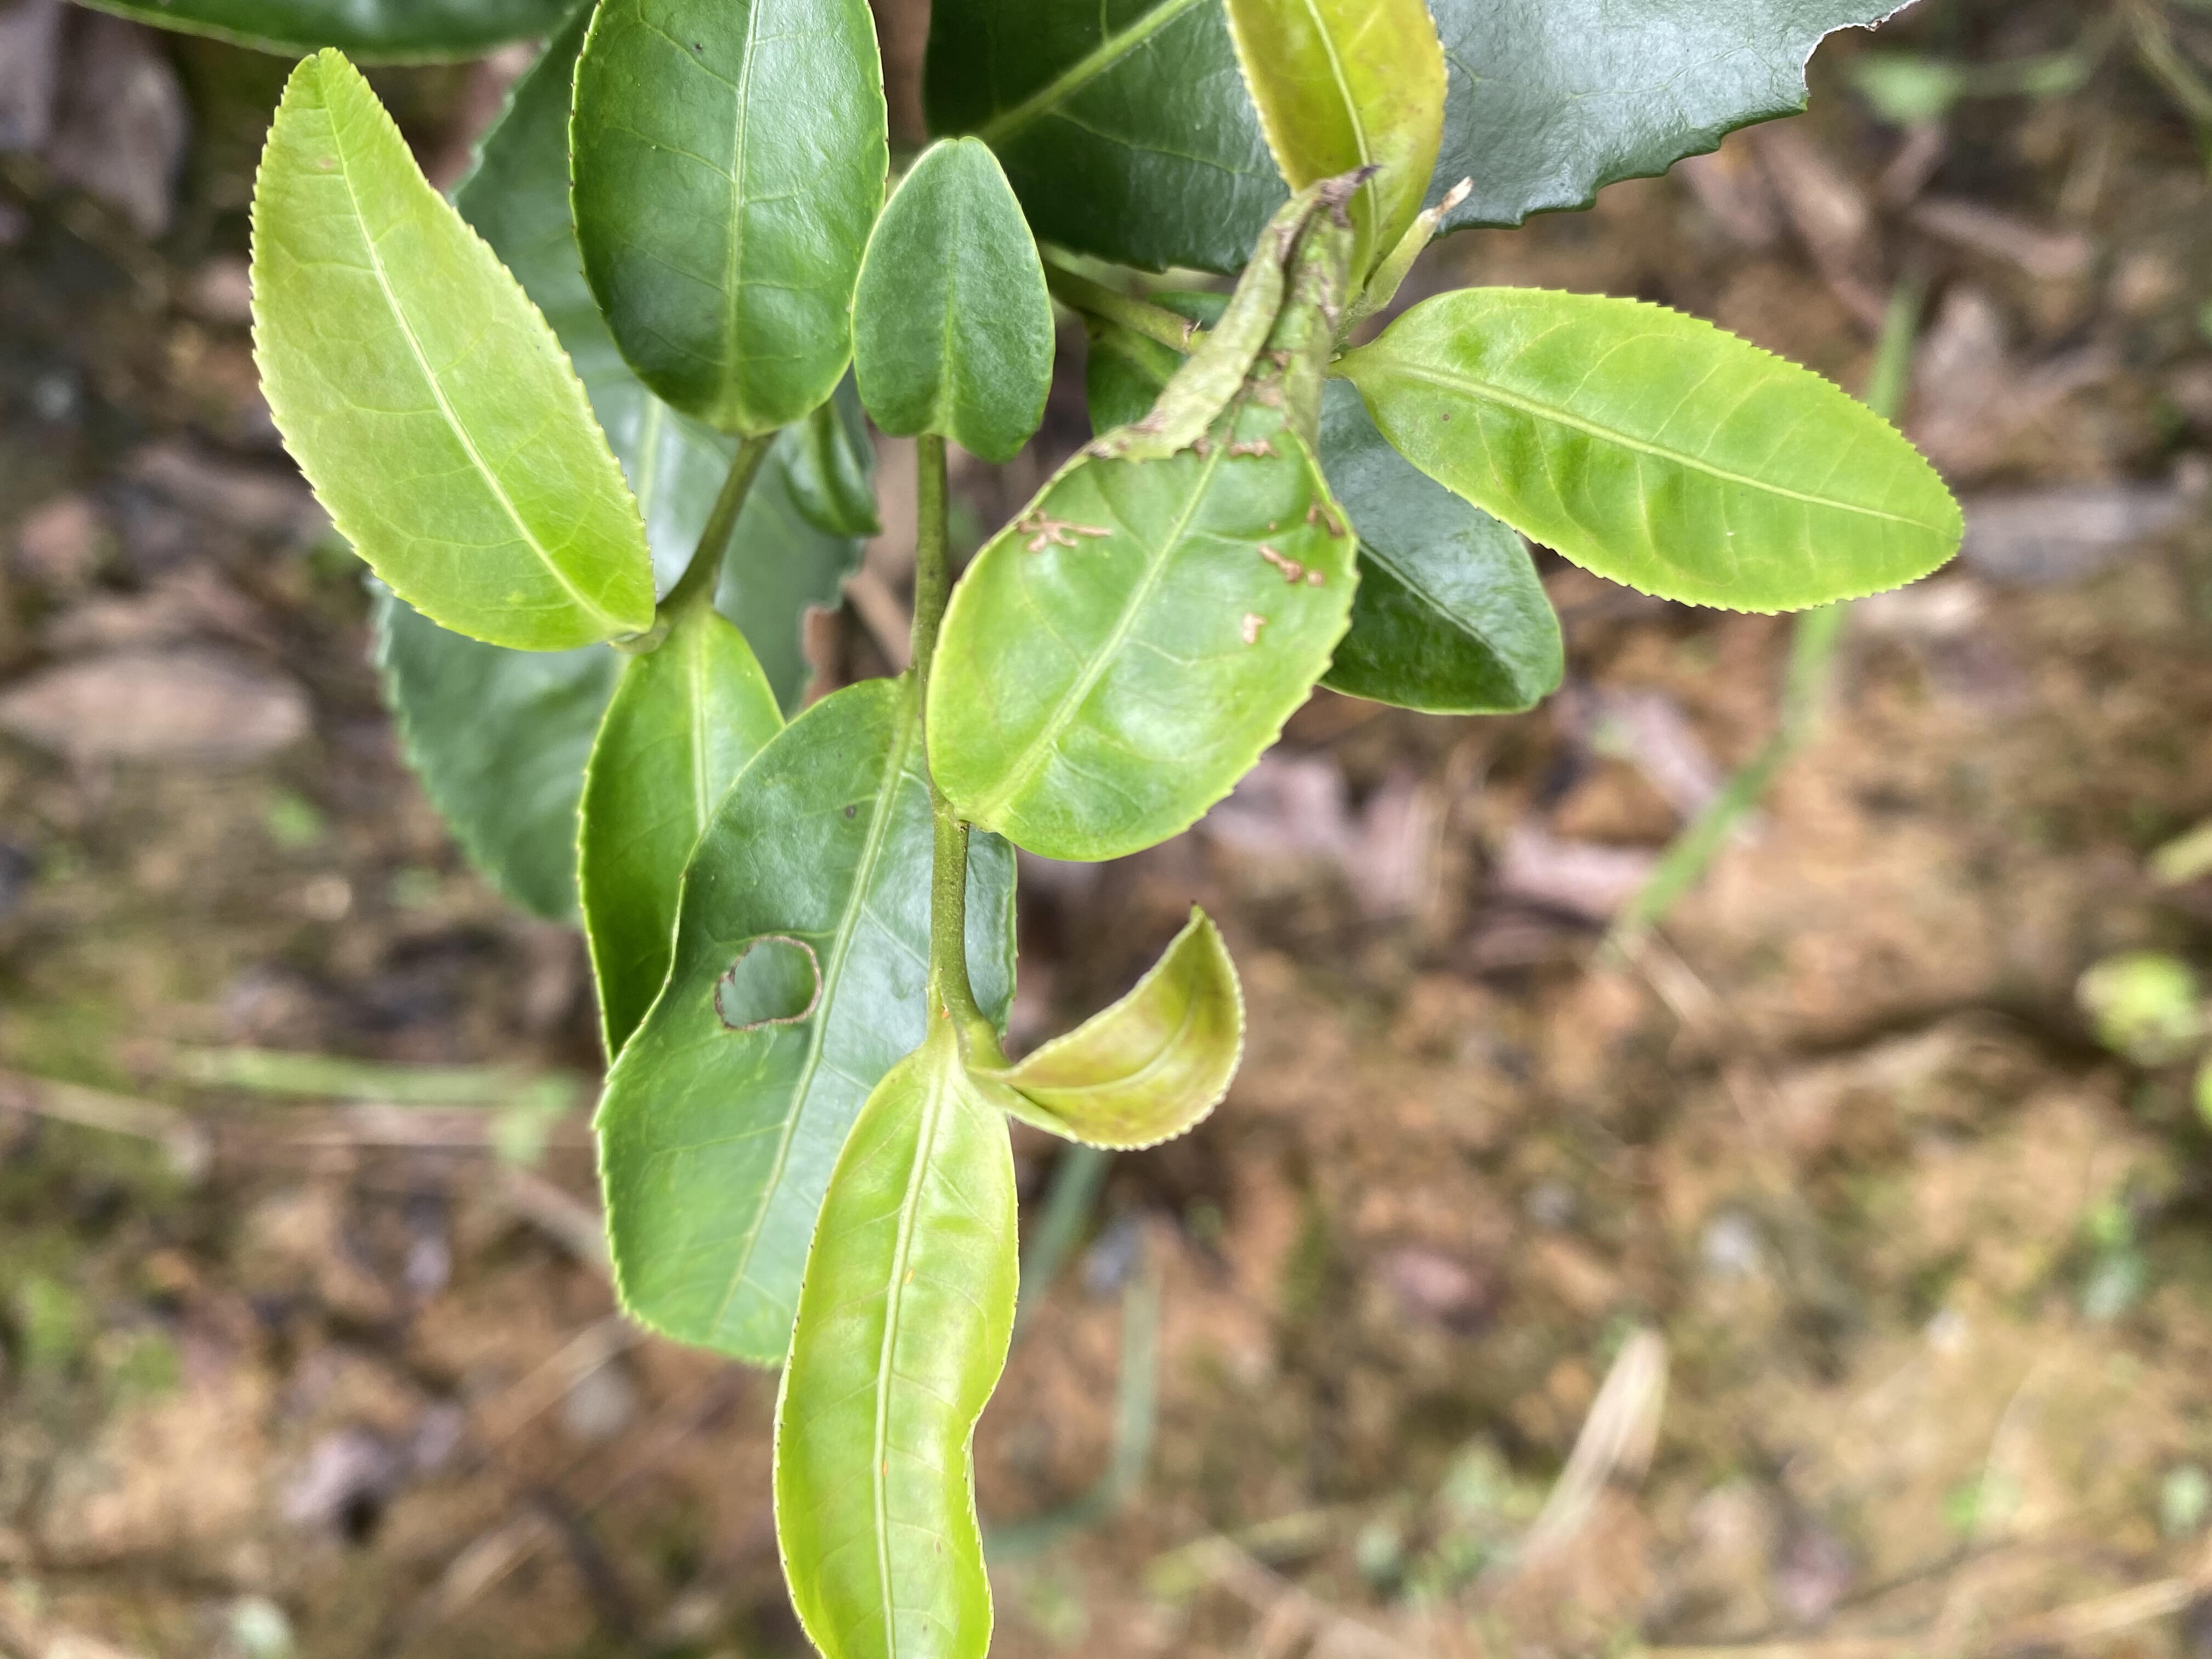chihuo_low: (590, 676, 1015, 1371), (923, 5, 1928, 277)
healthy: (242, 45, 651, 653), (1353, 281, 1966, 617), (561, 3, 890, 437), (848, 136, 1055, 464)
tanju_high: (925, 167, 1376, 864)
tanju_low: (963, 899, 1245, 1152), (1224, 3, 1451, 295)
